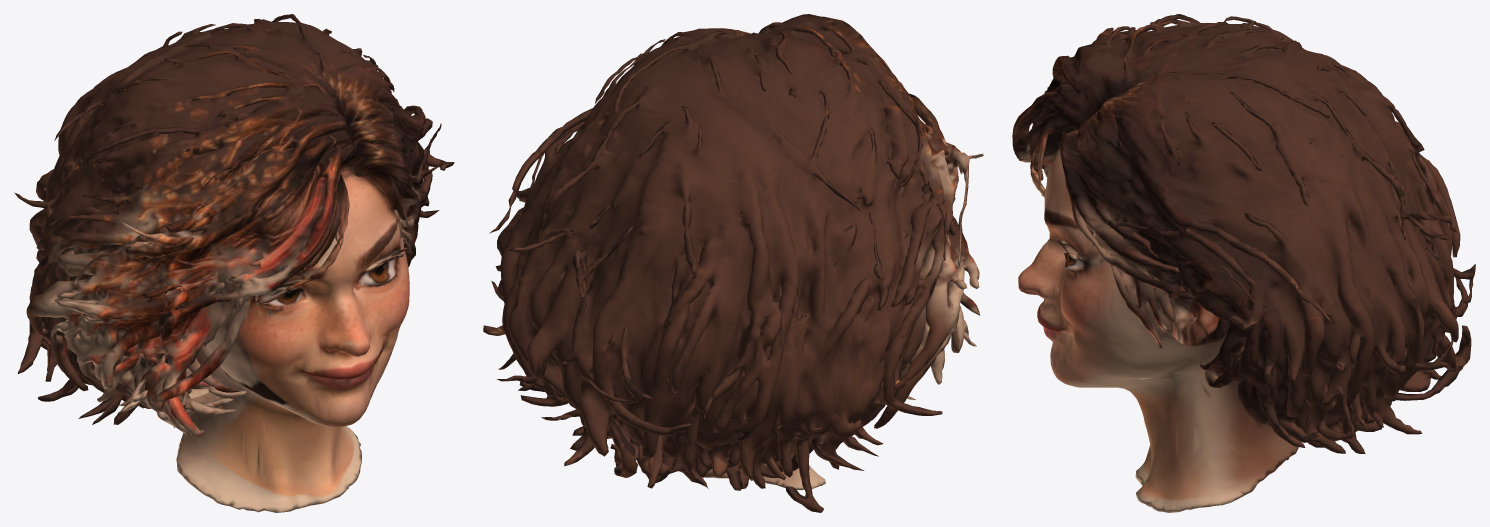
The model's file is head-detailed.glb.
3 renders of one model, left to right at view 1: azimuth 30°, elevation 25°; view 2: azimuth 150°, elevation 25°; view 3: azimuth 270°, elevation 25°, orthographic.
Parts seen in each view (by area): view 1: PortraitHead_NormalSample; view 2: PortraitHead_NormalSample; view 3: PortraitHead_NormalSample.
Boxes of the visible parts, box(x1,y1,x2,y2) form: PortraitHead_NormalSample: box(14, 14, 454, 512); PortraitHead_NormalSample: box(483, 14, 983, 512); PortraitHead_NormalSample: box(1012, 14, 1475, 512).
Size of the model in its own units: 1.92 by 1.89 by 1.79.
1 material, 1 textured.
